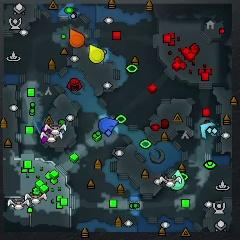p1: (99, 116, 117, 133)
p2: (169, 170, 184, 190)
p3: (41, 124, 54, 144)
p4: (89, 44, 104, 63)
p5: (69, 29, 85, 48)
x3: (201, 122, 215, 138)
